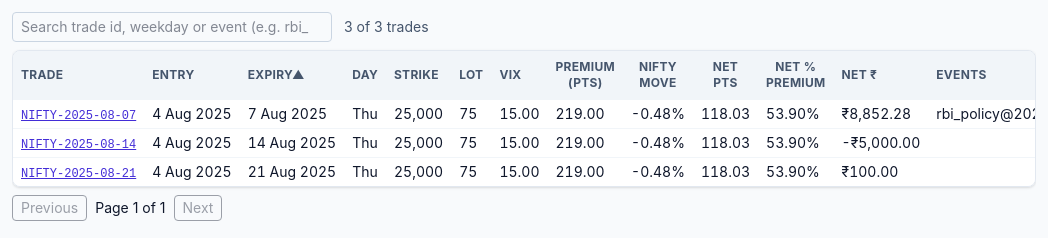
it: trade table › searches trade ids and event tags
In the search field named "Search trades": (172, 27) [12,12,332,42], type "rbi_policy"
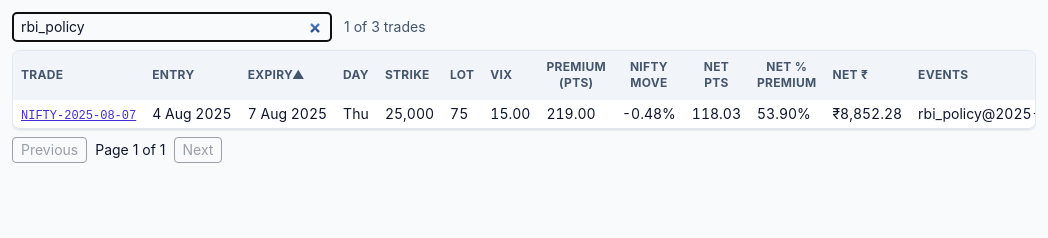
Check: the text "1 of 3 trades" is shown, box [344,17,426,37]
